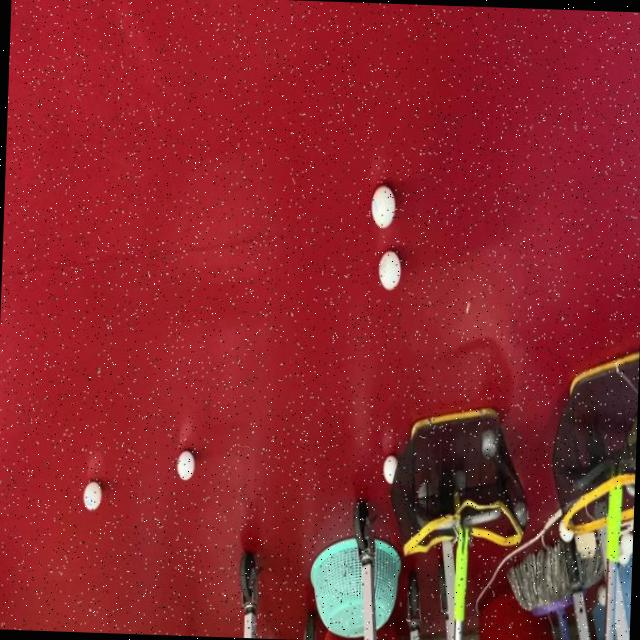ping-pong-ball: (369, 182, 401, 231), (378, 246, 403, 292), (382, 449, 402, 486), (83, 477, 104, 512), (178, 446, 196, 484), (559, 516, 577, 544), (596, 583, 610, 609), (620, 532, 633, 556)
